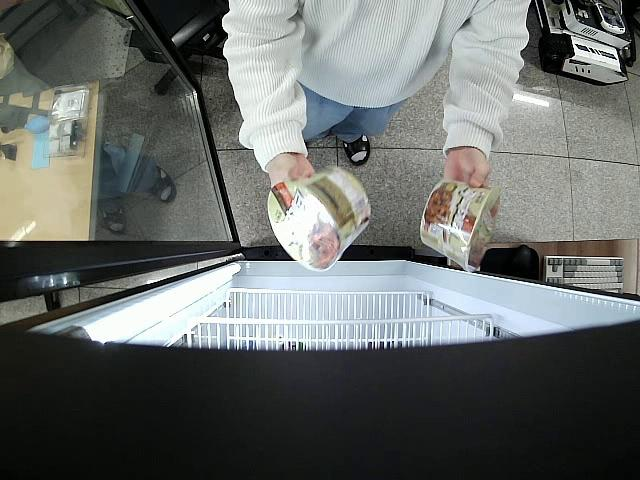00_hand: (441, 145, 494, 193)
03_chapagetti_L: (267, 166, 373, 270), (420, 179, 498, 275)
